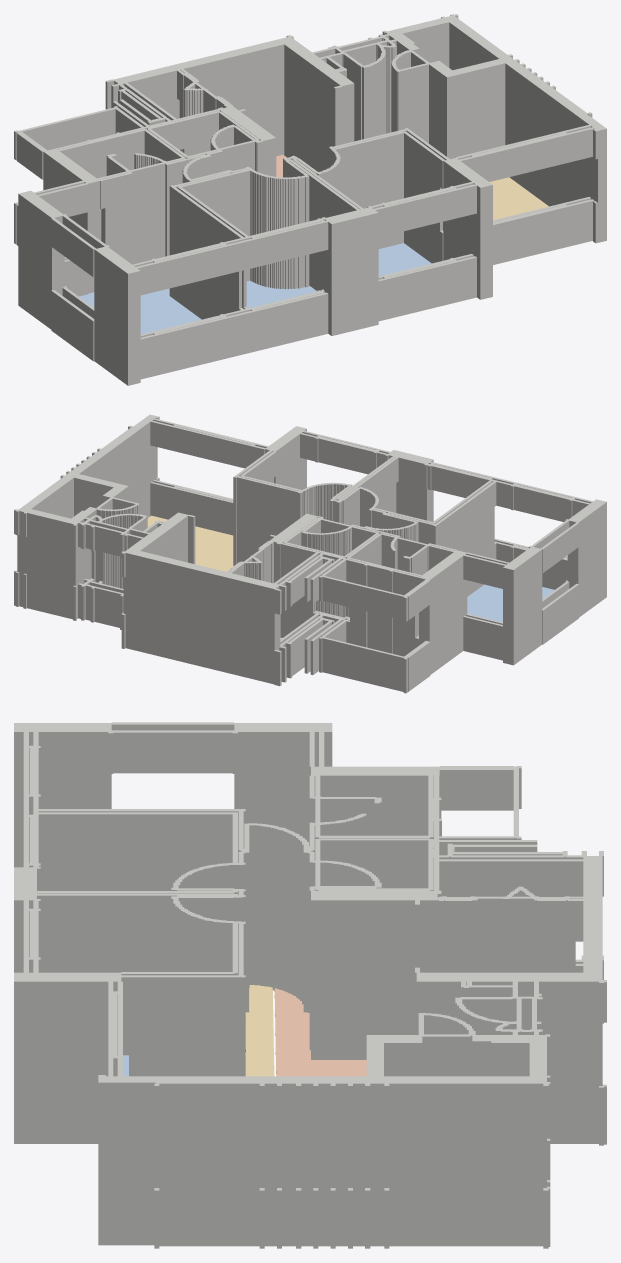
The picture shows the model from 3 angles, top to bottom: view 1: azimuth 30°, elevation 25°; view 2: azimuth 150°, elevation 25°; view 3: azimuth 270°, elevation 25°; orthographic projection. The views are drawn at different scales.
Visible parts, largest first — view 1: walls, room:bedroom:4, room:living:7, room:bedroom:6, room:bedroom:5; view 2: walls, room:living:7, room:bedroom:4; view 3: walls, room:kitchen:2, room:living:7.
Part boxes in pixels (<box>): walls: <box>14,14,606,385</box>; room:bedroom:4: <box>79,288,201,334</box>; room:living:7: <box>489,177,548,219</box>; room:bedroom:6: <box>378,243,431,276</box>; room:bedroom:5: <box>246,280,316,307</box>; walls: <box>14,414,606,693</box>; room:living:7: <box>147,515,233,571</box>; room:bedroom:4: <box>467,584,554,622</box>; walls: <box>14,722,606,1248</box>; room:kitchen:2: <box>274,988,366,1076</box>; room:living:7: <box>245,985,274,1076</box>.
Bounding box in the file's own units: 13.43 × 2.8 × 9.26.
